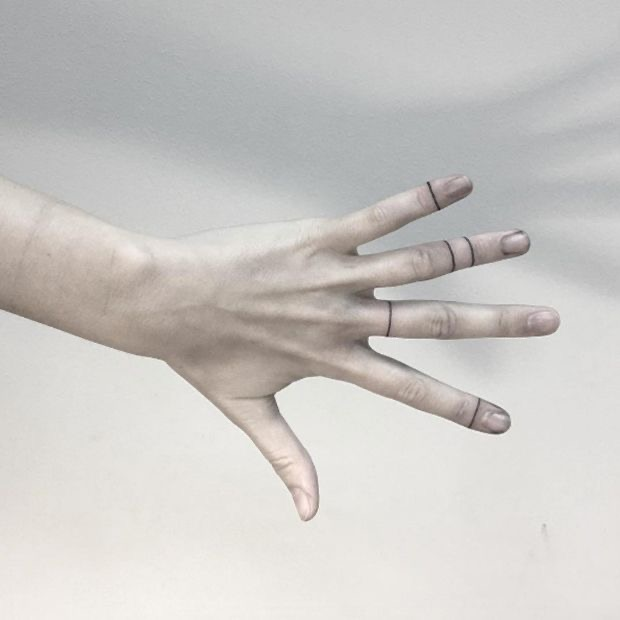nails: (478, 399, 515, 443), (286, 480, 322, 525), (523, 303, 561, 345), (437, 171, 480, 203), (497, 226, 532, 261)
